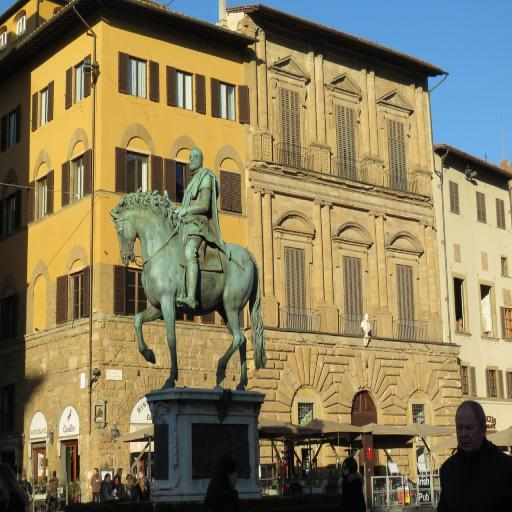Horse: (109, 185, 269, 393)
